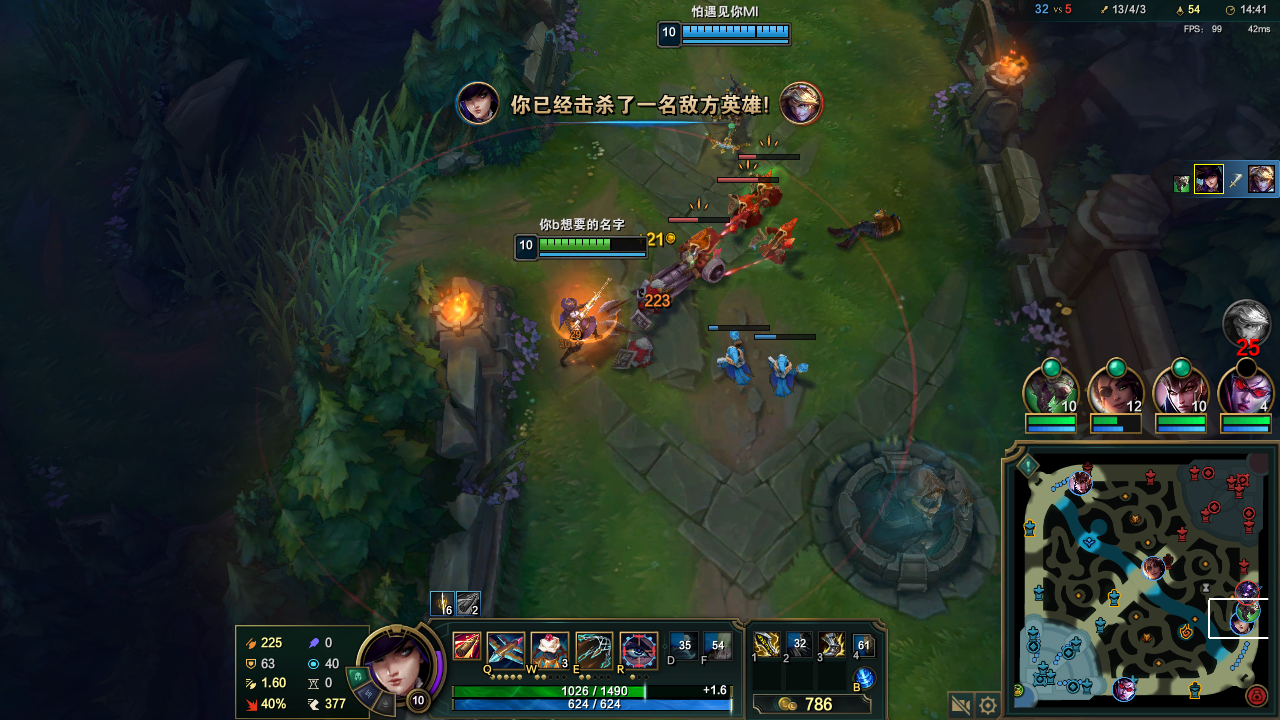DFXB: (665, 230, 728, 291), (719, 191, 770, 234), (751, 224, 796, 262), (751, 176, 786, 205)
WFXB: (722, 342, 755, 385), (762, 350, 794, 392)
